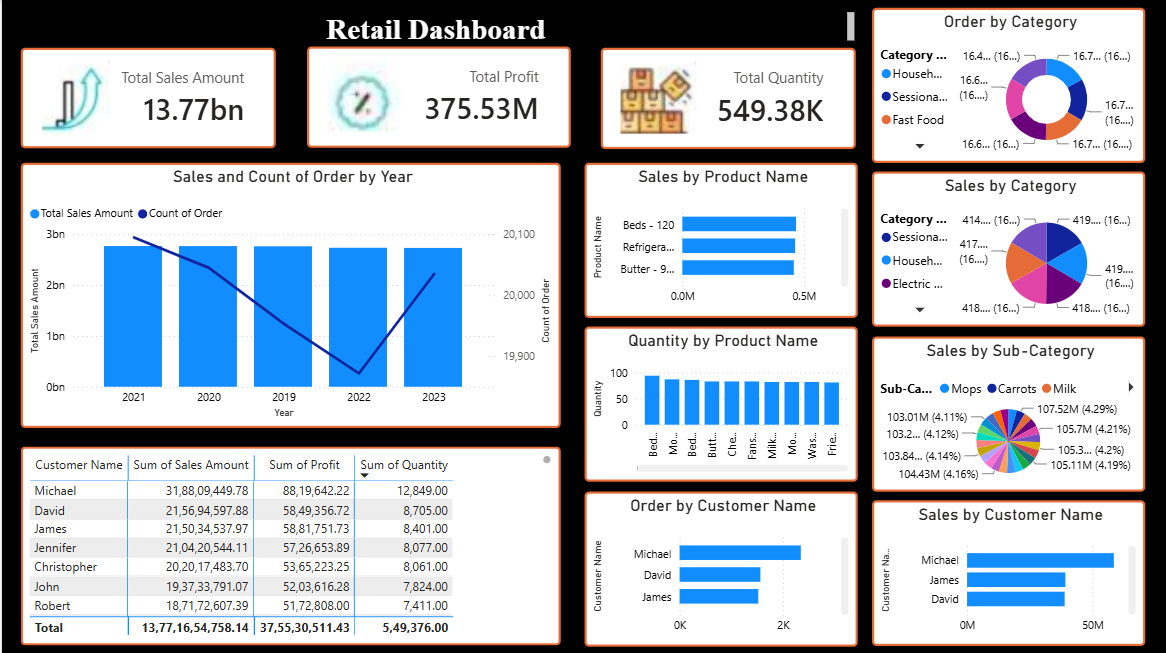

The page's visual inventory and layout, read from the dashboard file:
{"tool":"powerbi","page":{"name":"Page 2","canvas":[1280,720],"ordinal":1},"visuals":[{"type":"donutChart","title":"Order by Category ","fields":{"Category":["cleaned_stored_sales_data.Category of Goods"],"Y":["CountNonNull(cleaned_stored_sales_data.Order ID)"]},"box":[955.7,10,300,170],"z":0},{"type":"pieChart","title":"Sales by Category ","fields":{"Y":["Sum(cleaned_stored_sales_data.Sales)"],"Category":["cleaned_stored_sales_data.Category of Goods"]},"box":[955.7,190,300,170],"z":1000},{"type":"pieChart","title":"Sales by Sub-Category","fields":{"Y":["Sum(cleaned_stored_sales_data.Sales)"],"Category":["cleaned_stored_sales_data.Sub-Category"]},"box":[955.7,370,300,170],"z":2000},{"type":"barChart","title":"Sales by Customer Name","fields":{"Y":["Sum(cleaned_stored_sales_data.Sales)"],"Category":["cleaned_stored_sales_data.Customer Name"]},"box":[955.7,550,300,160],"z":3000},{"type":"barChart","title":"Order by Customer Name","fields":{"Category":["cleaned_stored_sales_data.Customer Name"],"Y":["CountNonNull(cleaned_stored_sales_data.Order ID)"]},"box":[640,540,300,170],"z":4000},{"type":"columnChart","title":" Quantity by Product Name","fields":{"Y":["Sum(cleaned_stored_sales_data.Quantity)"],"Category":["cleaned_stored_sales_data.Product Name"]},"box":[640,360,300,170],"z":5000},{"type":"barChart","title":"Sales by Product Name","fields":{"Y":["Sum(cleaned_stored_sales_data.Sales)"],"Category":["cleaned_stored_sales_data.Product Name"]},"box":[640,180,300,170],"z":6000},{"type":"textbox","box":[20,10,920,44.3],"z":7000},{"type":"cardVisual","fields":{"Data":["Sum(cleaned_stored_sales_data.Sales Amount)"]},"box":[20.6,53.5,280,110],"z":7000,"group":"g4"},{"type":"cardVisual","fields":{"Data":["Sum(cleaned_stored_sales_data.Profit)"]},"box":[334.8,52.1,289.5,111.1],"z":8000,"group":"g2"},{"type":"tableEx","fields":{"Values":["cleaned_stored_sales_data.Customer Name","Sum(cleaned_stored_sales_data.Sales Amount)","Sum(cleaned_stored_sales_data.Profit)","Sum(cleaned_stored_sales_data.Quantity)"]},"box":[20.6,491.3,592.8,218.2],"z":8000},{"type":"cardVisual","fields":{"Data":["Sum(cleaned_stored_sales_data.Quantity)"]},"box":[657.3,53.5,279.9,111.1],"z":9000,"group":"g3"},{"type":"lineClusteredColumnComboChart","title":"Sales and Count of Order  by Year","fields":{"Category":["cleaned_stored_sales_data.Year"],"Y":["Sum(cleaned_stored_sales_data.Sales Amount)"],"Y2":["CountNonNull(cleaned_stored_sales_data.Order ID)"]},"box":[20.6,179.8,592.8,290.9],"z":9000},{"type":"group","id":"g1","title":"Group 1","box":[20.6,53.5,280,110],"z":10000},{"type":"group","id":"g2","title":"Group 3","box":[334.8,52.1,289.5,111.1],"z":11000},{"type":"group","id":"g3","title":"Group 4","box":[657.3,53.5,279.9,111.1],"z":12000},{"type":"image","box":[34.3,67.1,93.3,84.2],"z":12001,"group":"g4"},{"type":"group","id":"g4","title":"Group 2","box":[20.6,53.5,280,110],"z":12003,"group":"g1"},{"type":"image","box":[352.6,65.8,90,80],"z":12003,"group":"g2"},{"type":"image","box":[671,68.6,98.8,79.6],"z":12005,"group":"g3"}]}

Visuals, with their boxes in screenshot pixels (x1, y1, x2, y2), scaled from the page's 1280x720 canvas onto the 1166x653 screenshot:
"Order by Category " donutChart: box(871, 9, 1144, 163)
"Sales by Category " pieChart: box(871, 172, 1144, 326)
"Sales by Sub-Category" pieChart: box(871, 336, 1144, 490)
"Sales by Customer Name" barChart: box(871, 499, 1144, 644)
"Order by Customer Name" barChart: box(583, 490, 856, 644)
" Quantity by Product Name" columnChart: box(583, 326, 856, 481)
"Sales by Product Name" barChart: box(583, 163, 856, 317)
textbox: box(18, 9, 856, 49)
cardVisual - Sum(cleaned_stored_sales_data.Sales Amount): box(19, 49, 274, 148)
cardVisual - Sum(cleaned_stored_sales_data.Profit): box(305, 47, 569, 148)
tableEx - cleaned_stored_sales_data.Customer Name x Sum(cleaned_stored_sales_data.Sales Amount): box(19, 446, 559, 643)
cardVisual - Sum(cleaned_stored_sales_data.Quantity): box(599, 49, 854, 149)
"Sales and Count of Order  by Year" lineClusteredColumnComboChart: box(19, 163, 559, 427)
"Group 1" group: box(19, 49, 274, 148)
"Group 3" group: box(305, 47, 569, 148)
"Group 4" group: box(599, 49, 854, 149)
image: box(31, 61, 116, 137)
"Group 2" group: box(19, 49, 274, 148)
image: box(321, 60, 403, 132)
image: box(611, 62, 701, 134)
